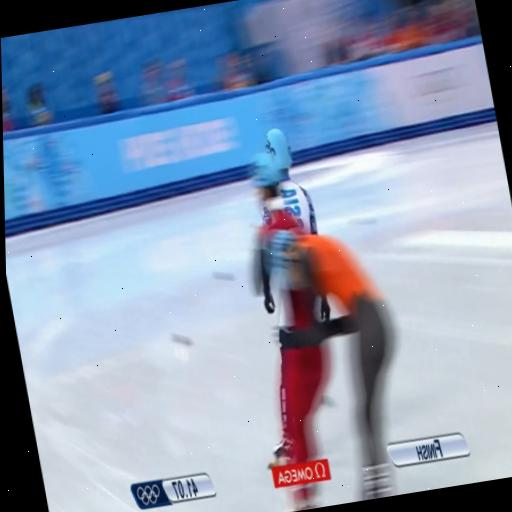Skater: (267, 231, 394, 500), (270, 268, 322, 466), (257, 129, 316, 235)
